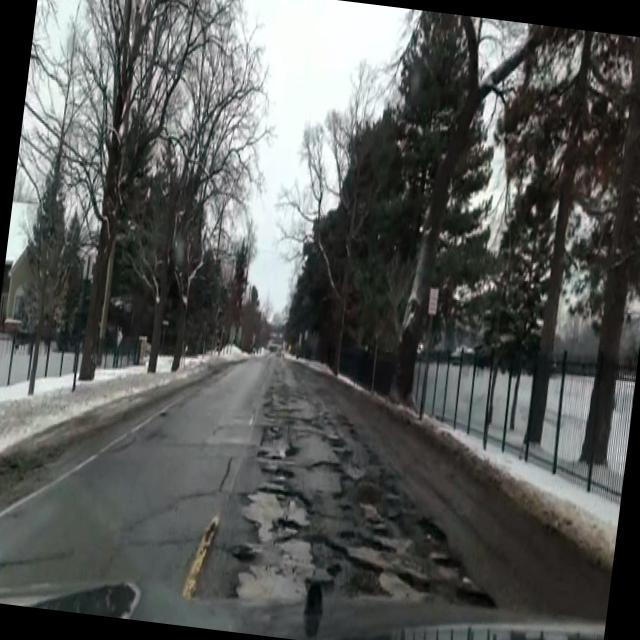Pothole: (283, 406, 506, 637), (219, 469, 346, 634), (10, 556, 160, 622), (248, 421, 300, 480)
